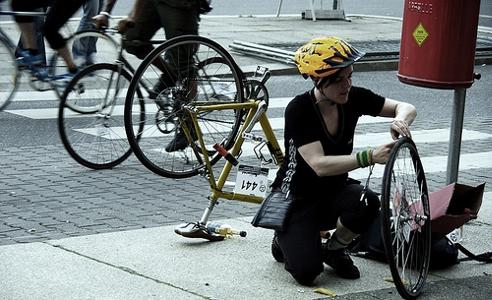person: (271, 37, 418, 287)
